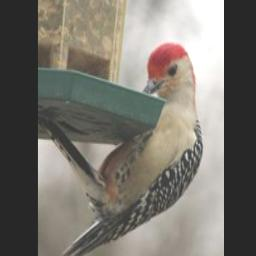Woodpecker: (57, 41, 202, 256)
